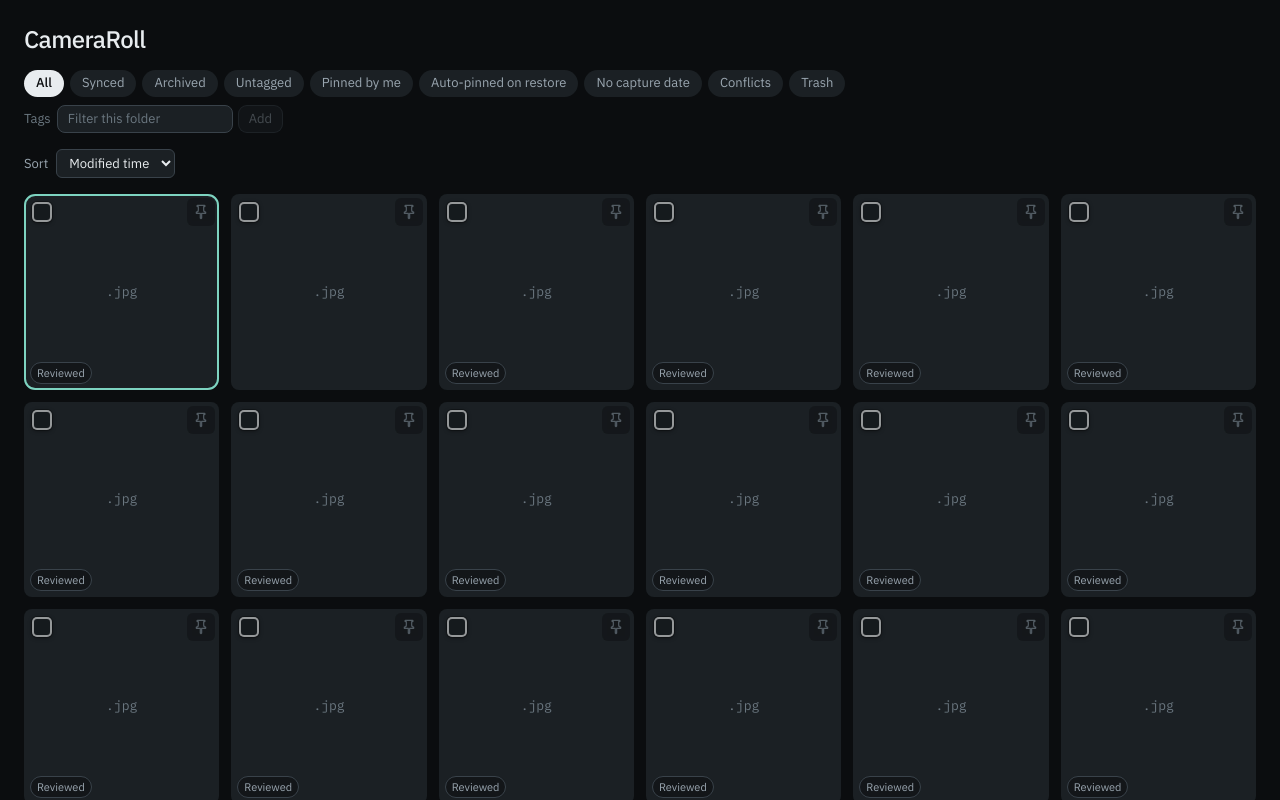
Test: Gallery › finishes a counted Lightbox metadata motion after loading another page
Click the button with aria-label "start.jpg".
click(122, 292)  # box [24,194,219,390]
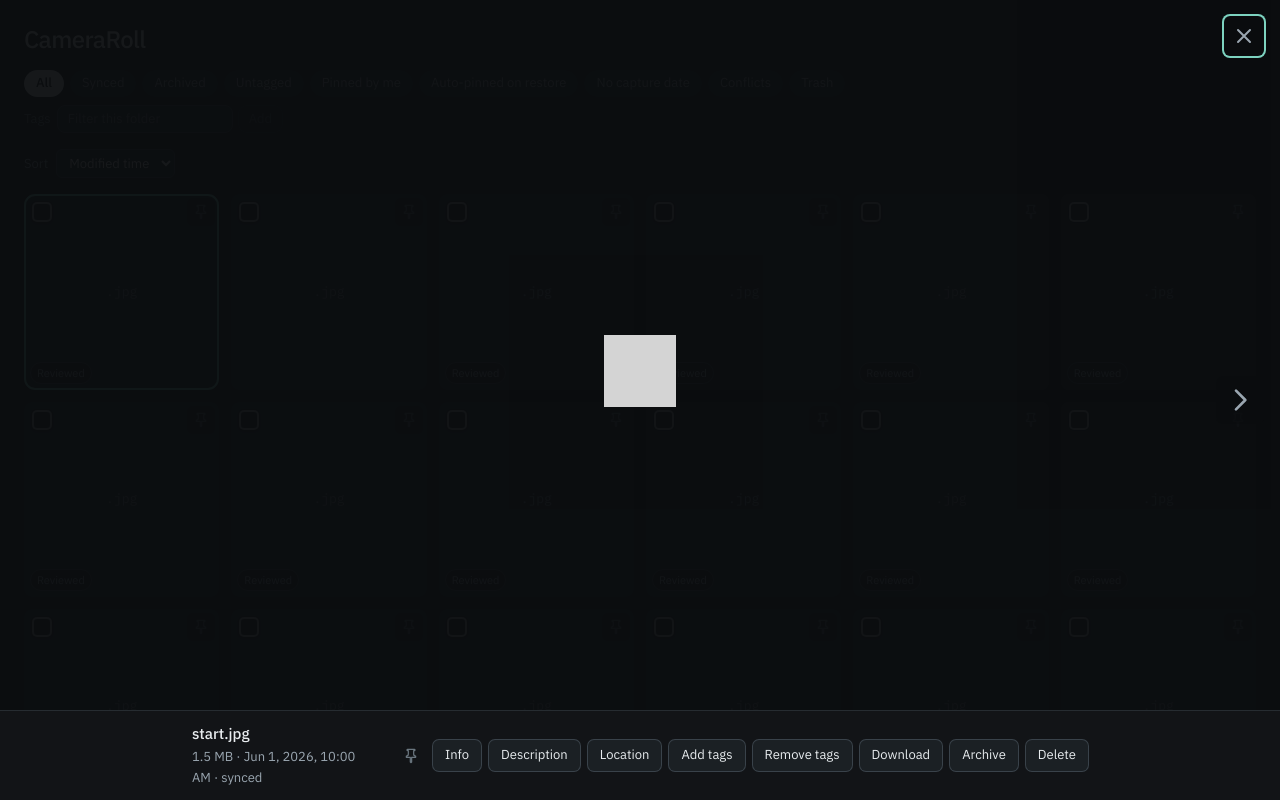
Press 2
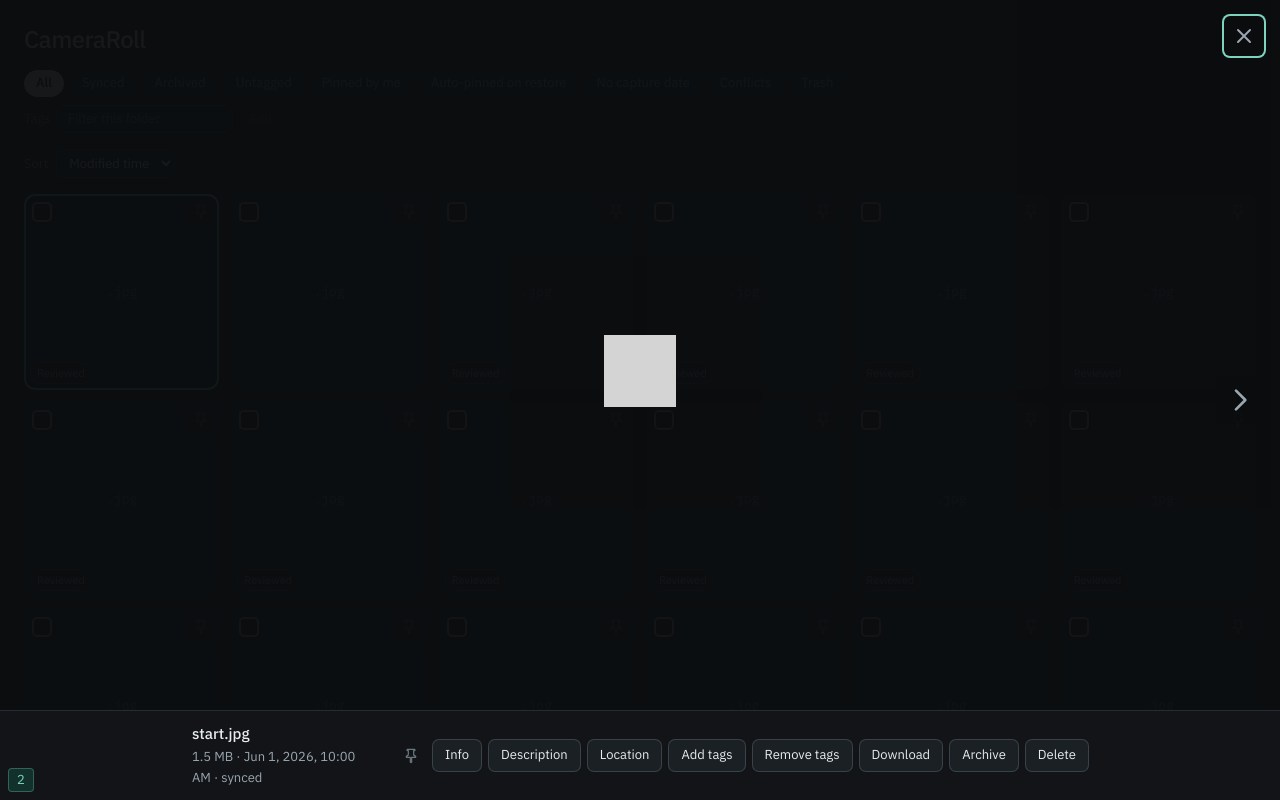
Press ]
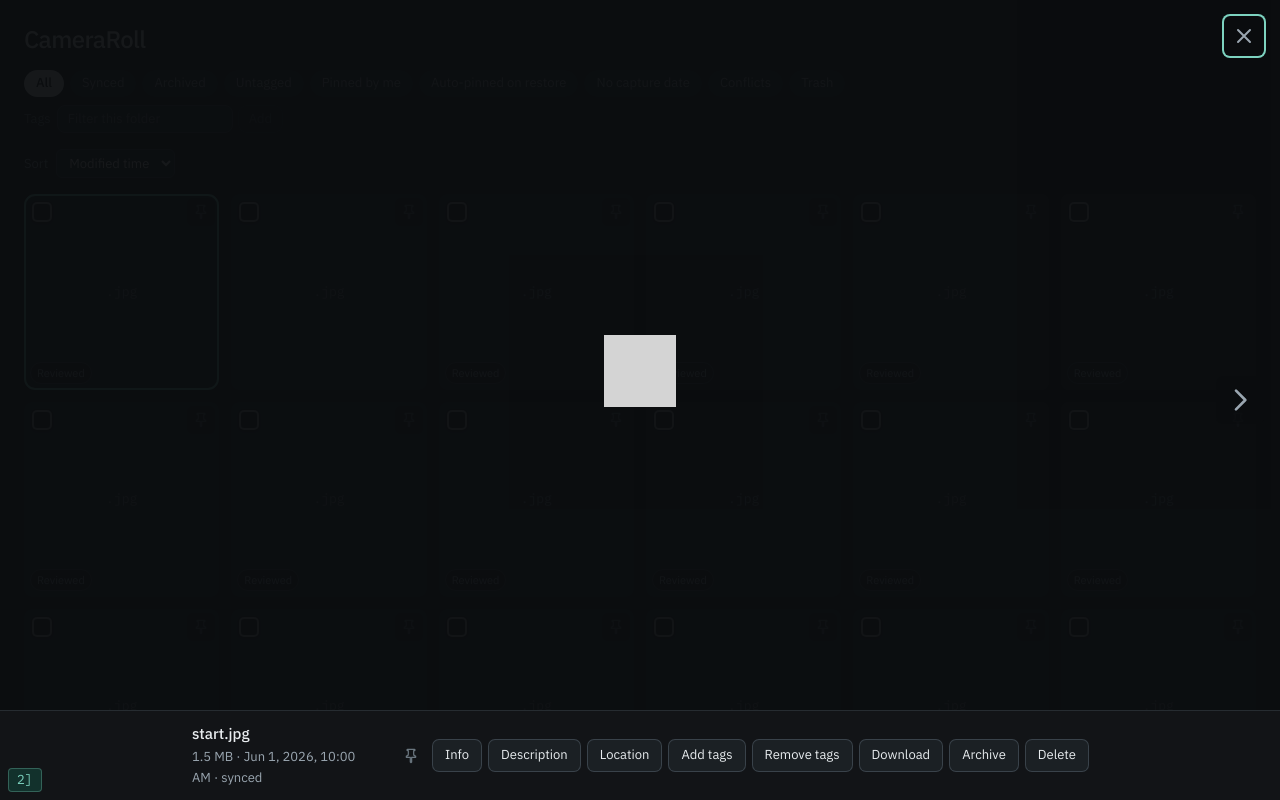
Press u
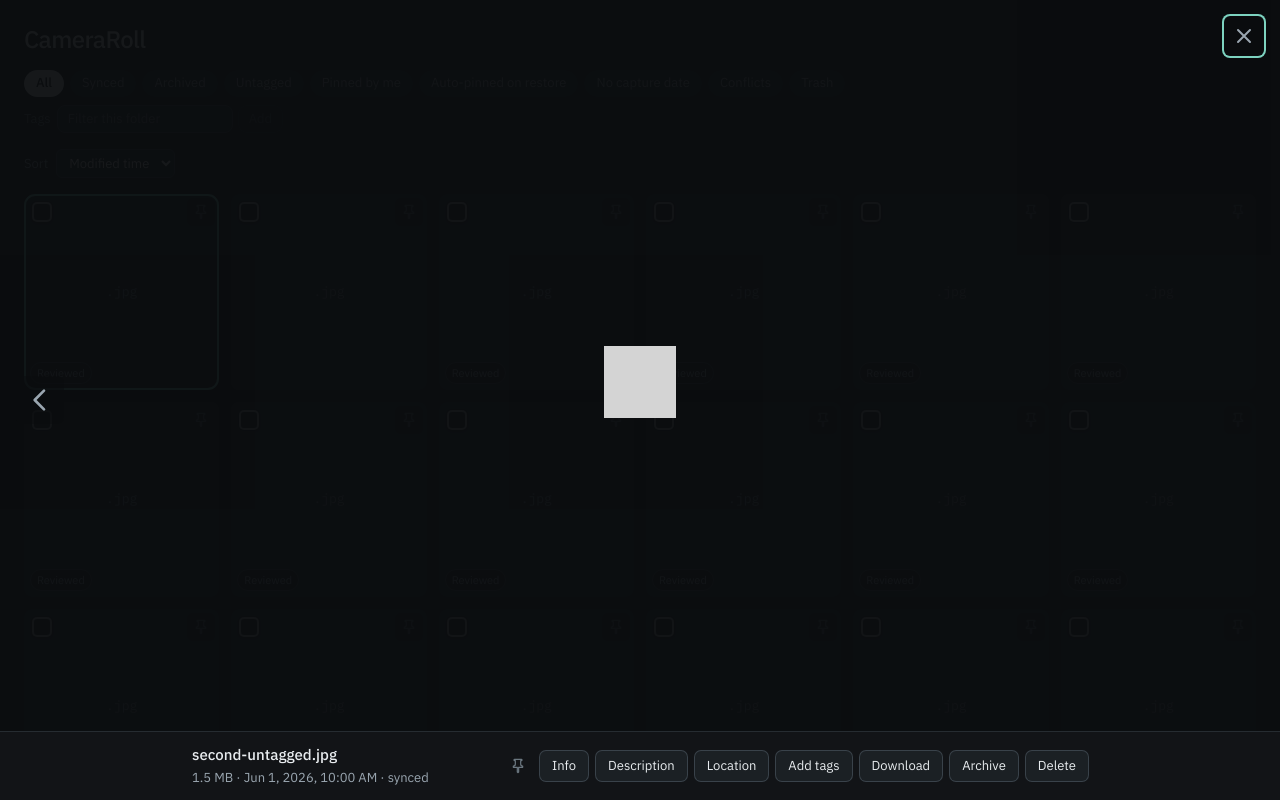
Expected: the dialog "second-untagged.jpg" is shown
